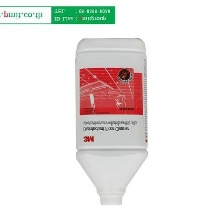cleaning_solution: (73, 35, 150, 207)
